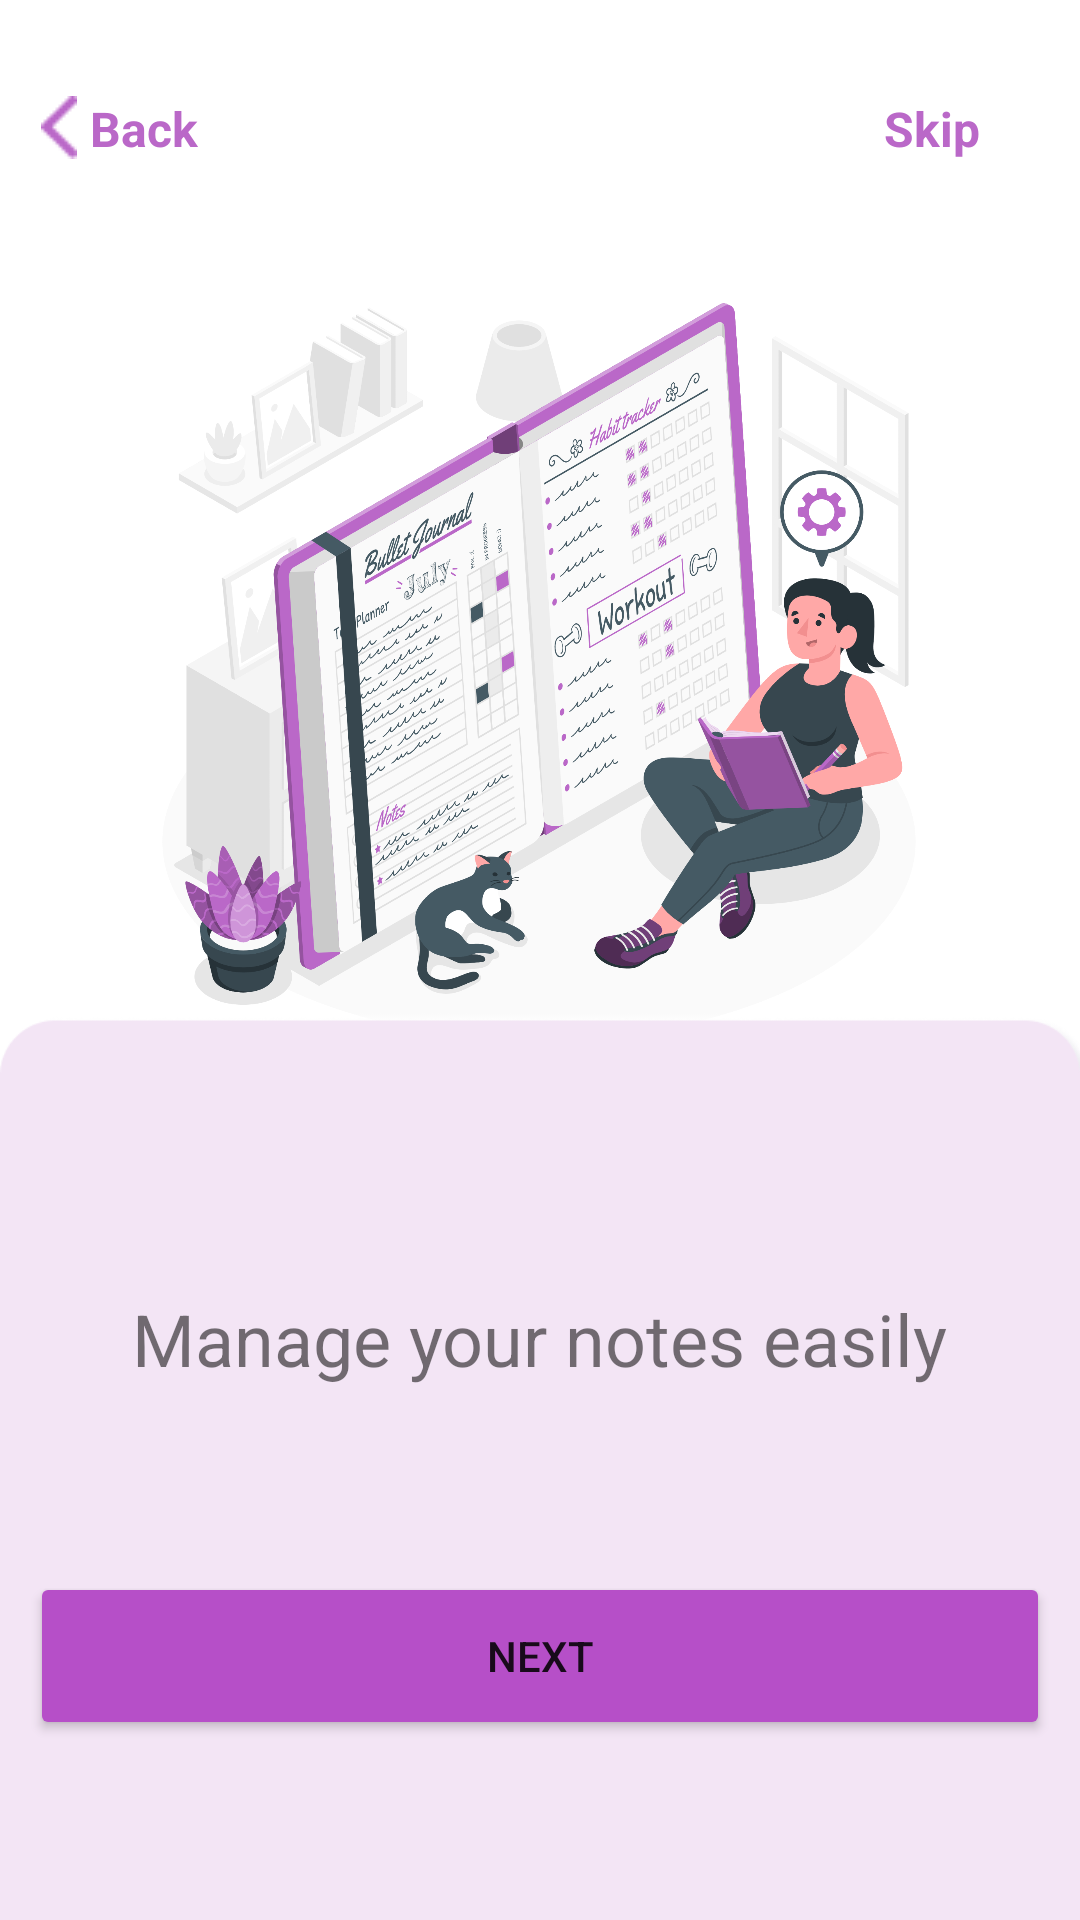

Locate icon controls on the screen. Image size 1080px×1920px, boxes as [x1,y1,x2,y2].
arrow: [41,96,77,159]
